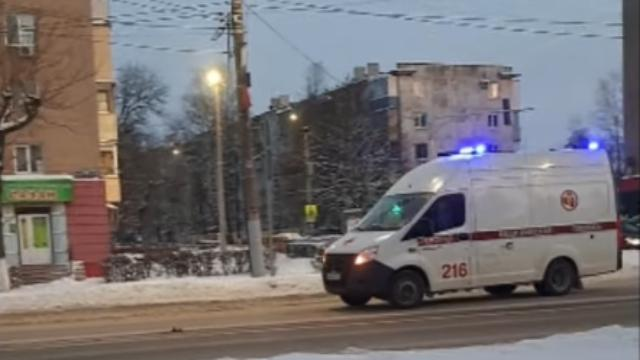ambulance: (323, 147, 628, 310)
